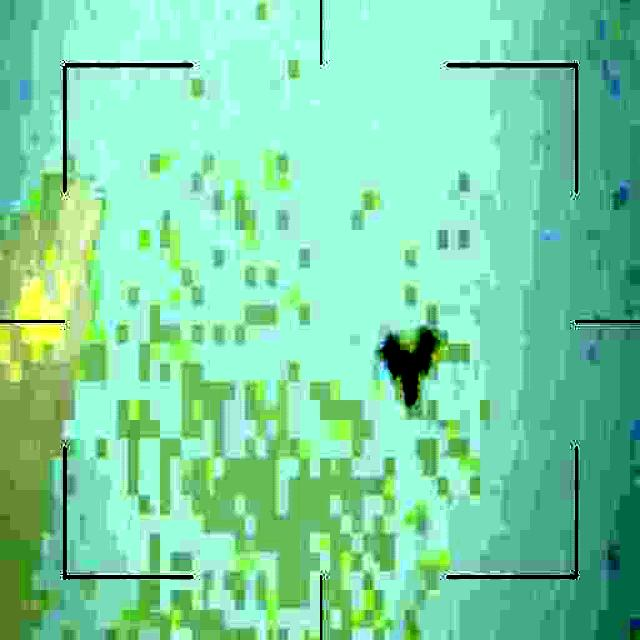bird: (380, 326, 434, 400)
